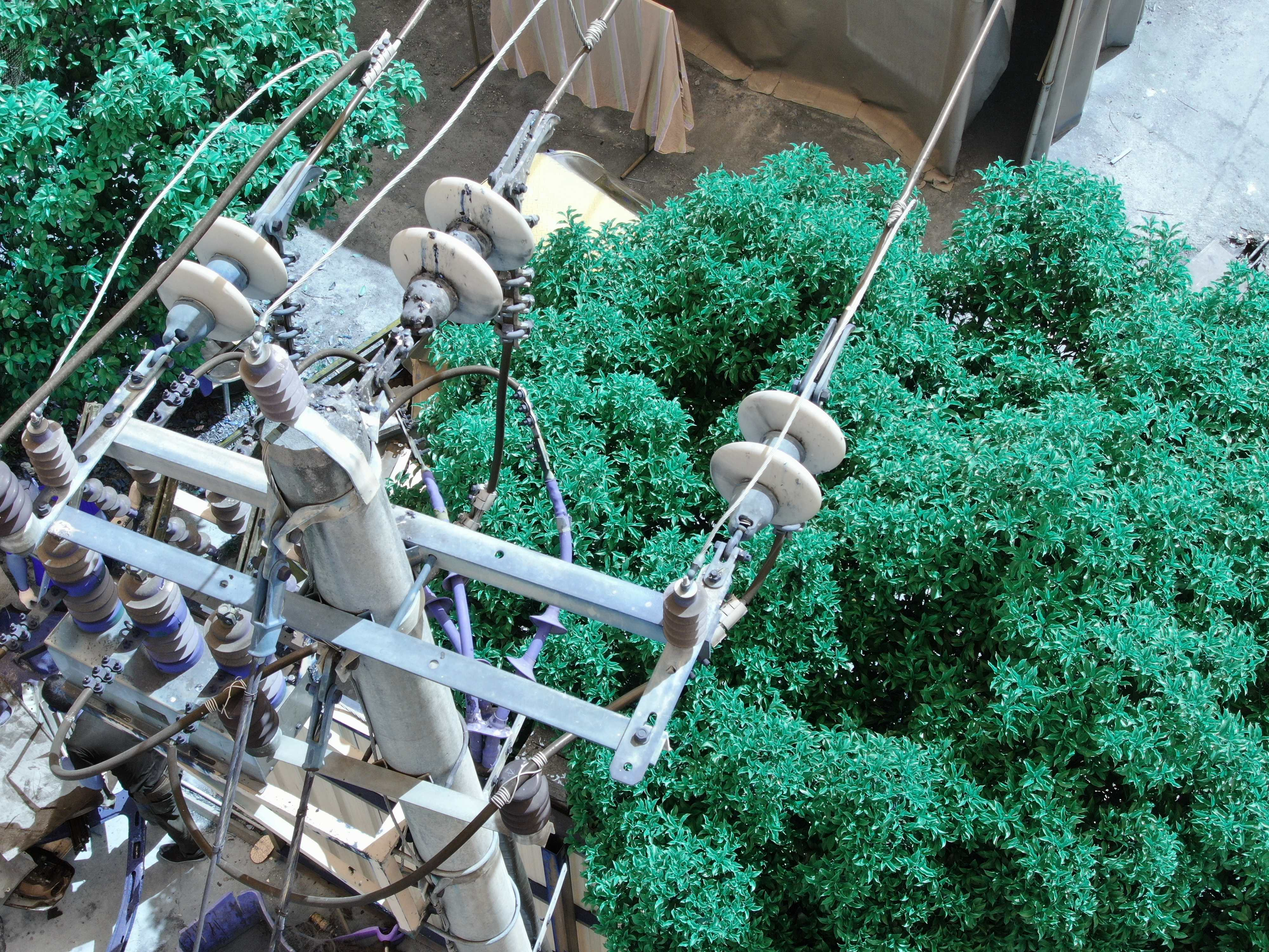severe_soiling_no_discharge_whole: (387, 167, 541, 343), (701, 386, 856, 548)
